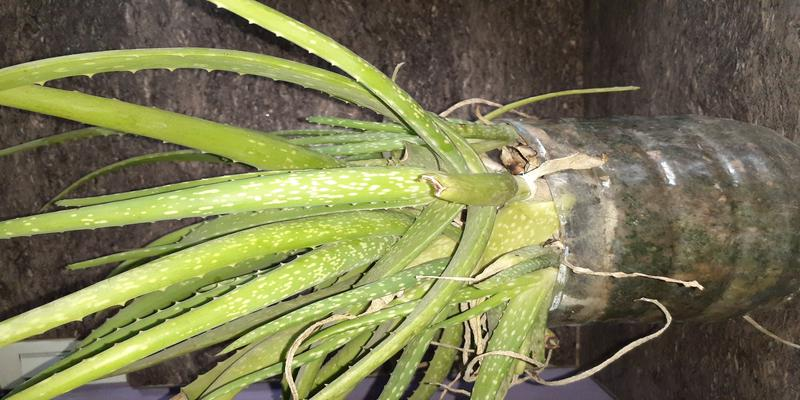Aloevera: (33, 63, 571, 390)
